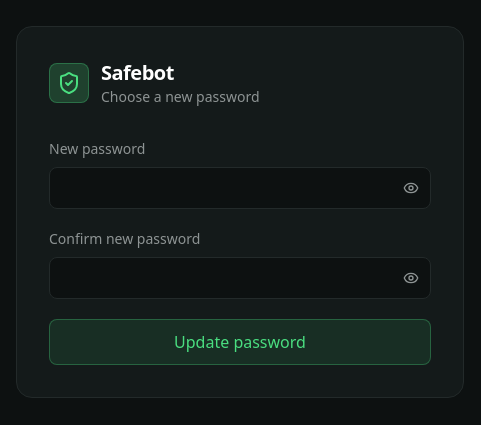
Scenario: ResetPasswordPage › disables submit button when passwords mismatch
This screenshot has width=481, height=425.
In the password field labelled "New password": (240, 188) [49,167,431,209], type "Password1"
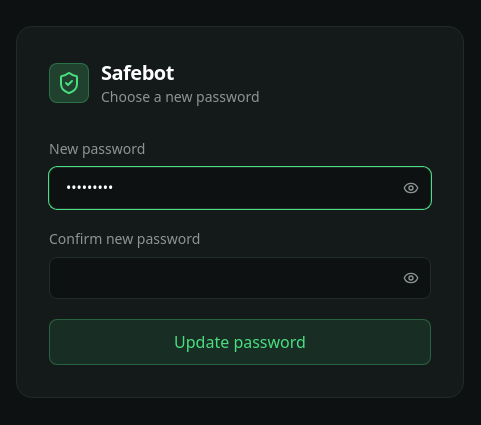
In the password field labelled "Confirm new password": (240, 278) [49,257,431,299], type "Different1"
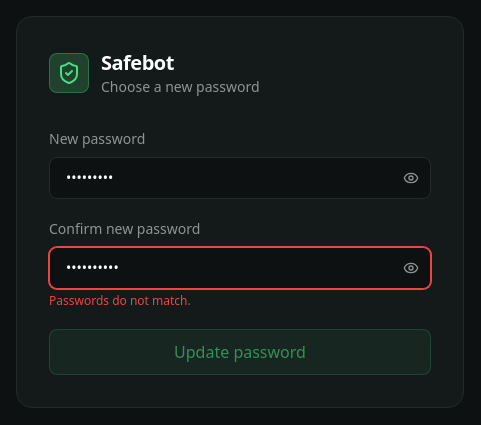
Result: the button "Update password" is disabled at [49,329,431,375]
